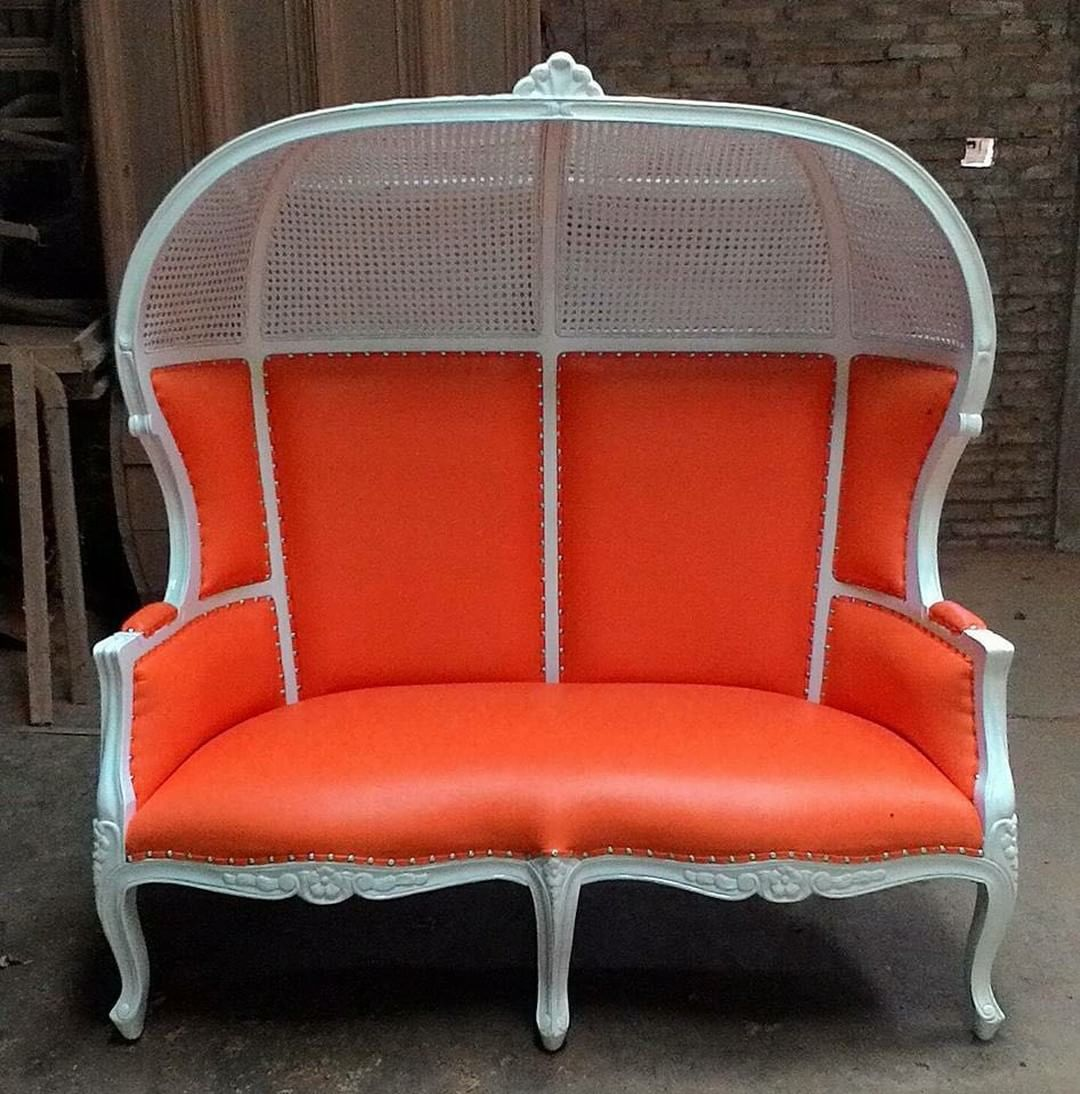Carving Chair: (83, 93, 1060, 1033)
